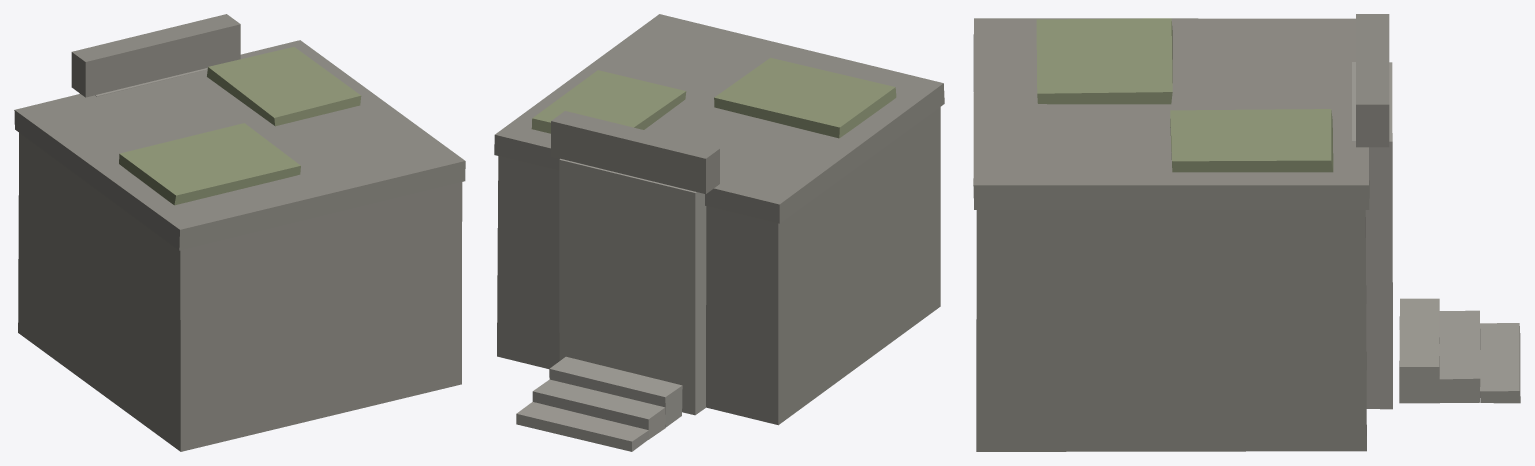
The model's file is graveyard_crypt.glb.
3 renders of one model, left to right at view 1: azimuth 30°, elevation 25°; view 2: azimuth 150°, elevation 25°; view 3: azimuth 270°, elevation 25°, orthographic. The views are drawn at different scales.
Parts seen in each view (by area): view 1: graveyard_crypt; view 2: graveyard_crypt; view 3: graveyard_crypt.
Part boxes in pixels (x1=…): graveyard_crypt: x1=14, y1=14, x2=465, y2=451; graveyard_crypt: x1=494, y1=14, x2=944, y2=451; graveyard_crypt: x1=973, y1=14, x2=1520, y2=451.
Bounding box in the file's own units: 2.95 × 2.56 × 4.08.
